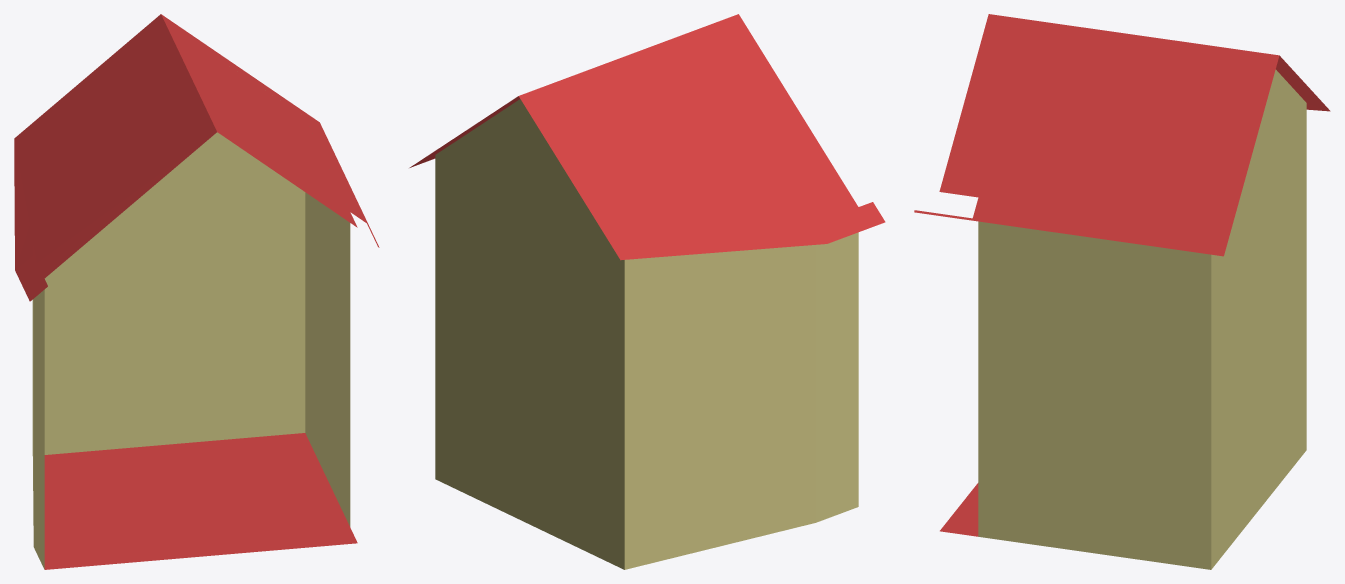
3 views of the same model, side by side, from view 1: azimuth 30°, elevation 25°; view 2: azimuth 150°, elevation 25°; view 3: azimuth 270°, elevation 25° (orthographic). The views are drawn at different scales.
Size of the model in its own units: 11.67 by 10.39 by 12.52.
